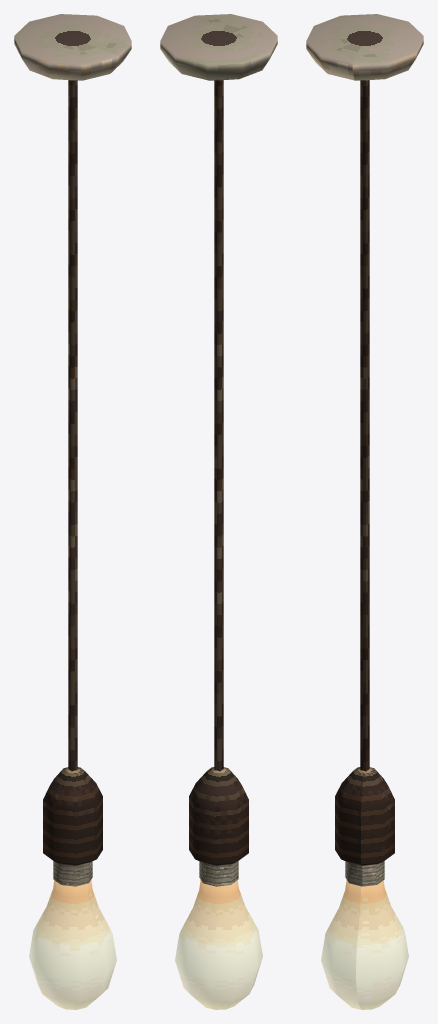
The model's file is bulb_hanging.glb.
3 renders of one model, left to right at view 1: azimuth 30°, elevation 25°; view 2: azimuth 150°, elevation 25°; view 3: azimuth 330°, elevation 25°, orthographic.
Parts seen in each view (by area): view 1: bulb_hanging; view 2: bulb_hanging; view 3: bulb_hanging.
Boxes of the visible parts, left/top/right/bottom form: bulb_hanging: left=14, top=14, right=131, bottom=1009; bulb_hanging: left=160, top=14, right=277, bottom=1009; bulb_hanging: left=306, top=14, right=423, bottom=1009.
Bounding box in the file's own units: 0.08 × 0.724 × 0.0761.
Materials: 2 (2 with a texture image).
